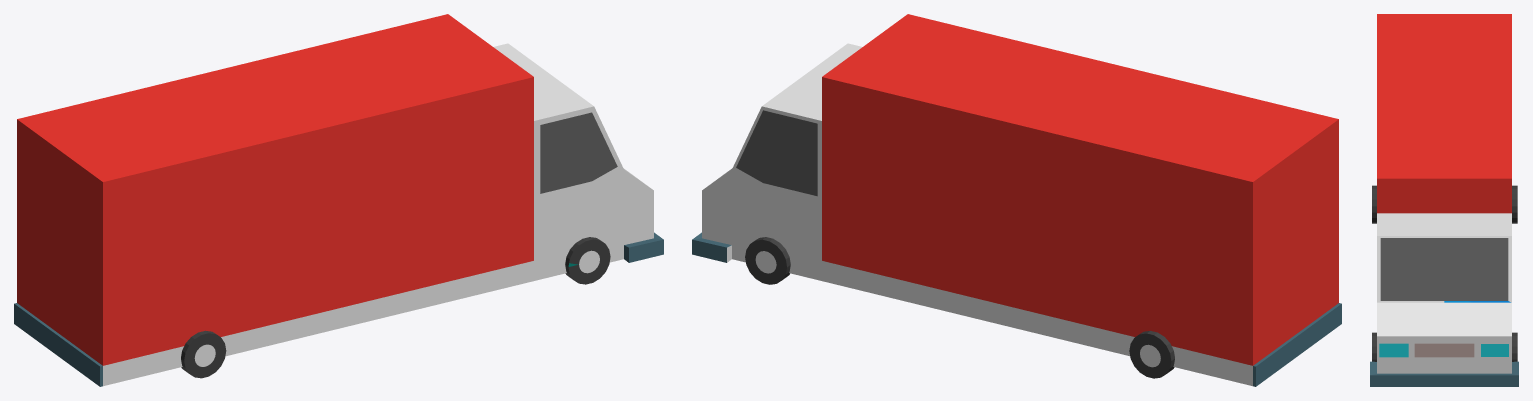
The model's file is Kamionce3x1Red.fbx.
The picture shows the model from 3 angles, left to right: view 1: azimuth 30°, elevation 25°; view 2: azimuth 150°, elevation 25°; view 3: azimuth 270°, elevation 25°; orthographic projection. The views are drawn at different scales.
Visible parts, largest first — view 1: Car_08_4; view 2: Car_08_4; view 3: Car_08_4.
Boxes of the visible parts, left/top/right/bottom form: Car_08_4: left=14, top=14, right=663, bottom=386; Car_08_4: left=692, top=14, right=1341, bottom=386; Car_08_4: left=1370, top=14, right=1518, bottom=386.
Size of the model in its own units: 2.98 by 1.1 by 0.8755.
1 material, 1 textured.
